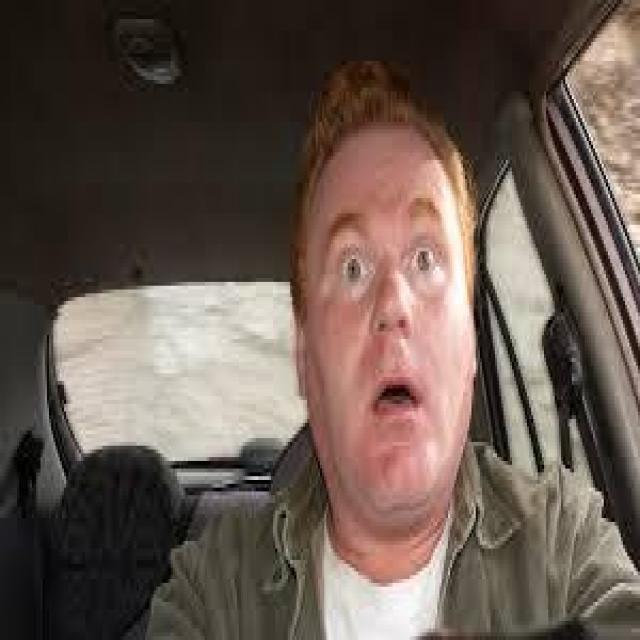noSeatbelt: (155, 411, 640, 639)
